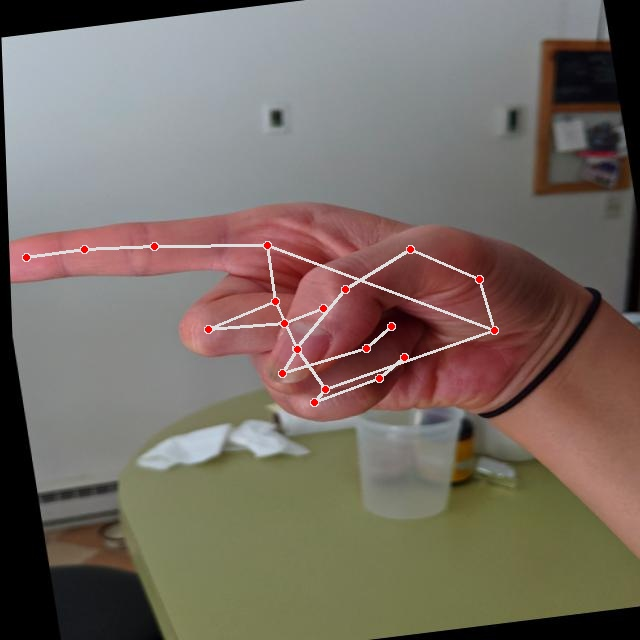G: (5, 160, 597, 475)
